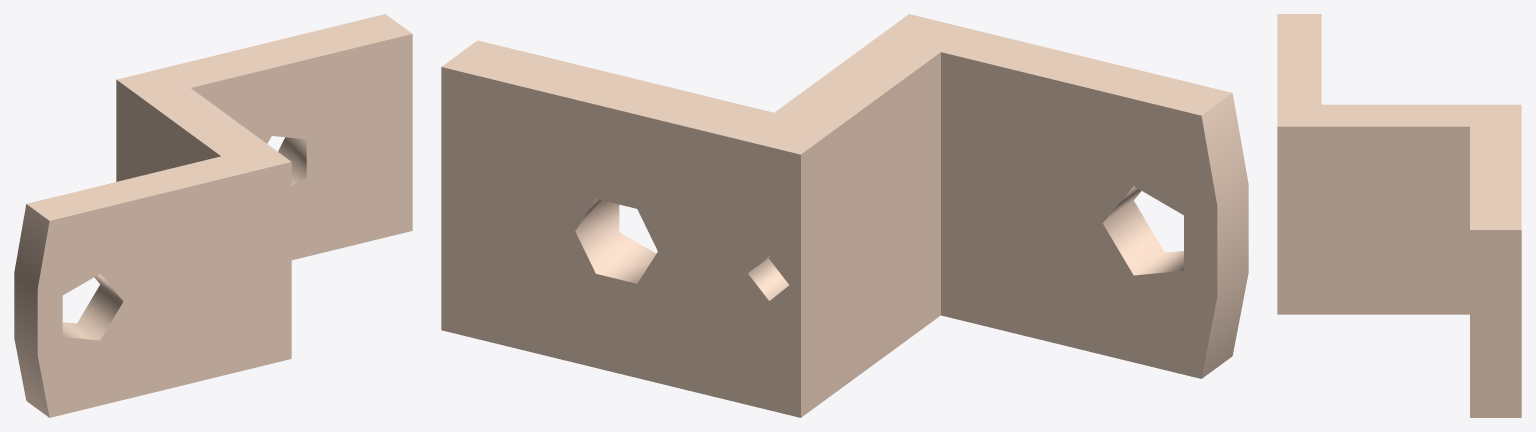
The model's file is Pont Grande detente.obj.
3 views of the same model, side by side, from view 1: azimuth 30°, elevation 25°; view 2: azimuth 150°, elevation 25°; view 3: azimuth 270°, elevation 25° (orthographic). The views are drawn at different scales.
Parts seen in each view (by area): view 1: Face_2, Face_6, Face_3, Face_8, Face_12, Face_11, Face_10; view 2: Face_5, Face_1, Face_8, Face_3, Face_12, Face_10, Face_11, Face_13; view 3: Face_9, Face_3, Face_7.
Boxes of the visible parts, x1,y1,x2,y2 form: Face_2: (37,162,291,417); Face_6: (191,34,412,260); Face_3: (27,14,412,220); Face_8: (116,80,220,181); Face_12: (14,204,49,417); Face_11: (62,274,123,340); Face_10: (278,137,306,185); Face_5: (441,67,800,417); Face_1: (941,52,1217,378); Face_8: (801,52,940,417); Face_3: (442,14,1231,154); Face_12: (1201,93,1248,378); Face_10: (575,199,656,283); Face_11: (1102,186,1183,275); Face_13: (748,256,788,300); Face_9: (1277,126,1469,314); Face_3: (1277,14,1521,229); Face_7: (1470,230,1521,417).
Size of the model in its own units: 0.0354 by 0.014 by 0.0165.
